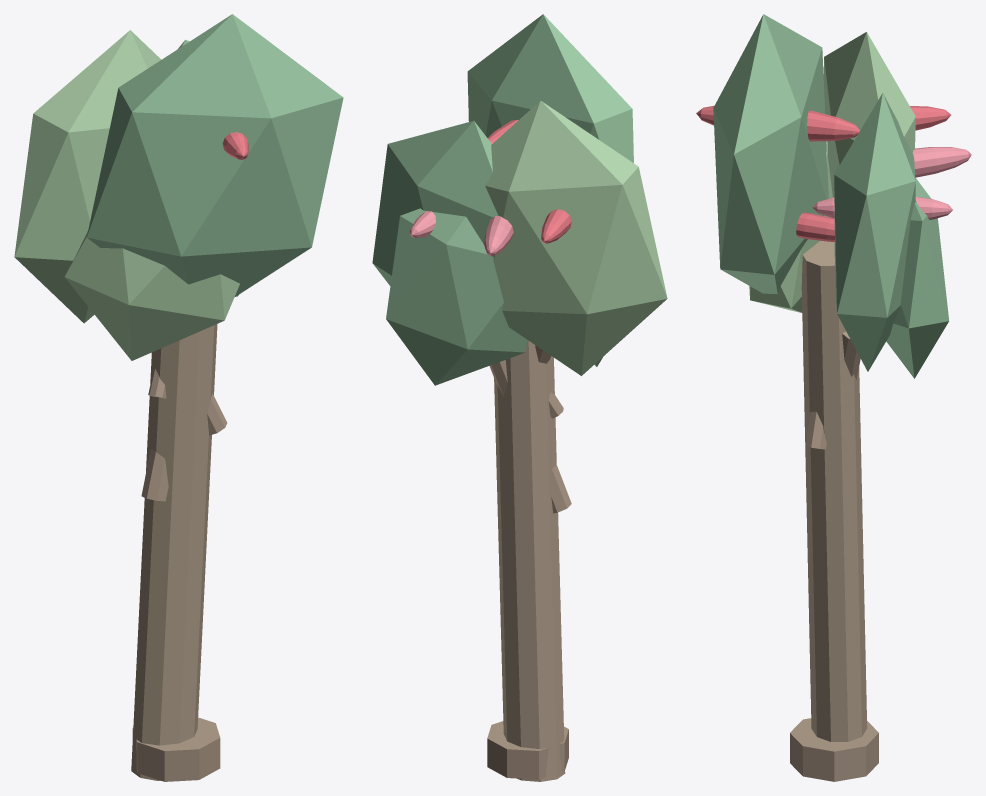
The model's file is TREE_BOTTLEBRUSH_001_v002_LOD_CLOSE.glb.
The picture shows the model from 3 angles, left to right: view 1: azimuth 30°, elevation 25°; view 2: azimuth 150°, elevation 25°; view 3: azimuth 270°, elevation 25°; orthographic projection. The views are drawn at different scales.
Parts seen in each view (by area): view 1: TREE_BOTTLEBRUSH_001_LEAF_CLUSTER, TREE_BOTTLEBRUSH_001_TRUNK, TREE_BOTTLEBRUSH_001_GROUND_SOCKET, TREE_BOTTLEBRUSH_001_BRANCH, TREE_BOTTLEBRUSH_001_FLOWER_CLUSTER; view 2: TREE_BOTTLEBRUSH_001_LEAF_CLUSTER, TREE_BOTTLEBRUSH_001_TRUNK, TREE_BOTTLEBRUSH_001_GROUND_SOCKET, TREE_BOTTLEBRUSH_001_FLOWER_CLUSTER, TREE_BOTTLEBRUSH_001_BRANCH; view 3: TREE_BOTTLEBRUSH_001_LEAF_CLUSTER, TREE_BOTTLEBRUSH_001_TRUNK, TREE_BOTTLEBRUSH_001_FLOWER_CLUSTER, TREE_BOTTLEBRUSH_001_GROUND_SOCKET, TREE_BOTTLEBRUSH_001_BRANCH.
Part boxes in pixels (bbox=[...]): TREE_BOTTLEBRUSH_001_LEAF_CLUSTER: bbox=[14, 14, 343, 360]; TREE_BOTTLEBRUSH_001_TRUNK: bbox=[131, 324, 217, 780]; TREE_BOTTLEBRUSH_001_GROUND_SOCKET: bbox=[132, 717, 220, 781]; TREE_BOTTLEBRUSH_001_BRANCH: bbox=[141, 369, 227, 501]; TREE_BOTTLEBRUSH_001_FLOWER_CLUSTER: bbox=[222, 132, 248, 159]; TREE_BOTTLEBRUSH_001_LEAF_CLUSTER: bbox=[372, 14, 667, 385]; TREE_BOTTLEBRUSH_001_TRUNK: bbox=[494, 340, 565, 781]; TREE_BOTTLEBRUSH_001_GROUND_SOCKET: bbox=[487, 721, 568, 779]; TREE_BOTTLEBRUSH_001_FLOWER_CLUSTER: bbox=[409, 120, 571, 255]; TREE_BOTTLEBRUSH_001_BRANCH: bbox=[489, 345, 571, 513]; TREE_BOTTLEBRUSH_001_LEAF_CLUSTER: bbox=[713, 14, 948, 378]; TREE_BOTTLEBRUSH_001_TRUNK: bbox=[801, 240, 867, 741]; TREE_BOTTLEBRUSH_001_FLOWER_CLUSTER: bbox=[696, 105, 971, 241]; TREE_BOTTLEBRUSH_001_GROUND_SOCKET: bbox=[790, 718, 878, 781]; TREE_BOTTLEBRUSH_001_BRANCH: bbox=[805, 331, 860, 449].
Size of the model in its own units: 1.81 by 4.54 by 1.48.
